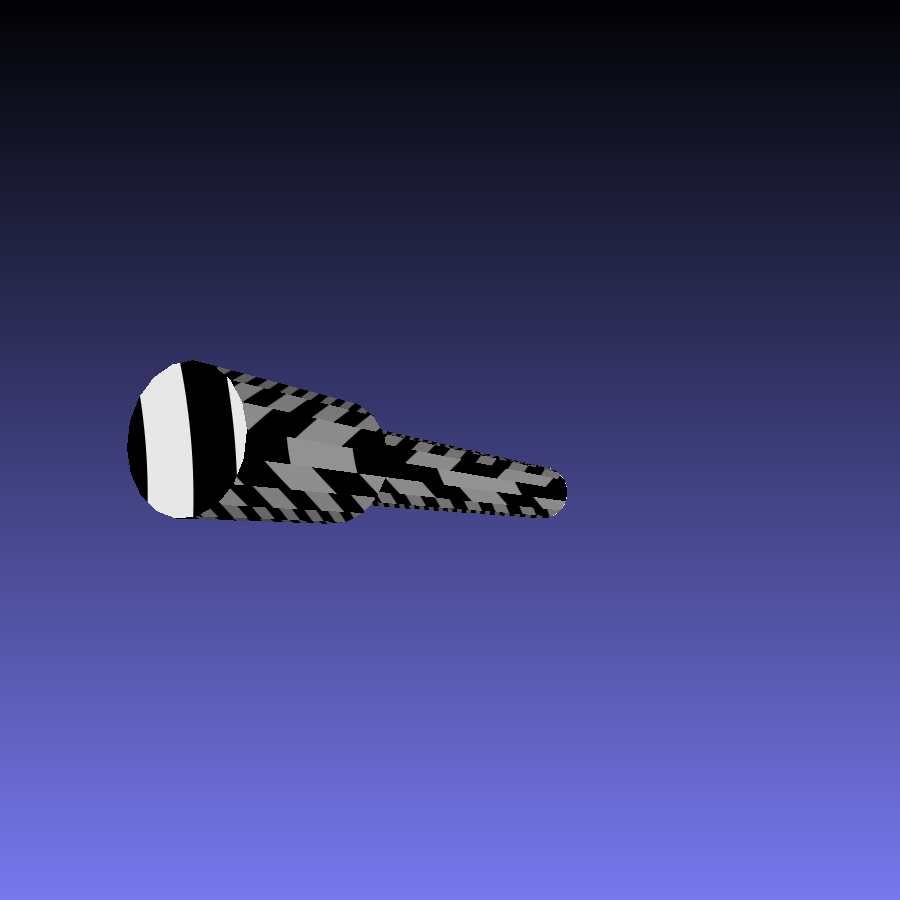cargo_g: (128, 363, 571, 526)
